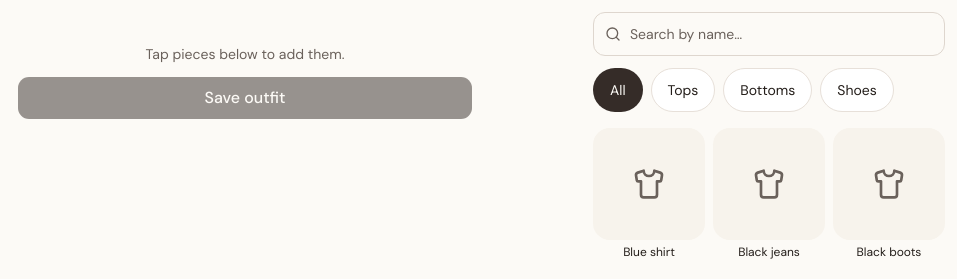
Scenario: arranges the chosen piece with buttons (OC-6)
Click the button "Blue shirt" at [649, 194], box 593,128 -> 705,260
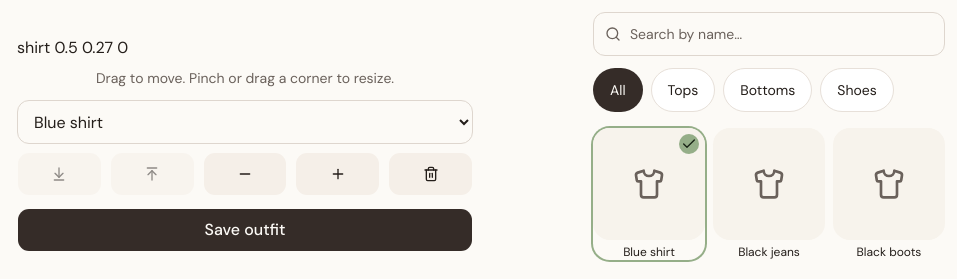
Click the button "Black jeans" at [769, 194], box 713,128 -> 825,260
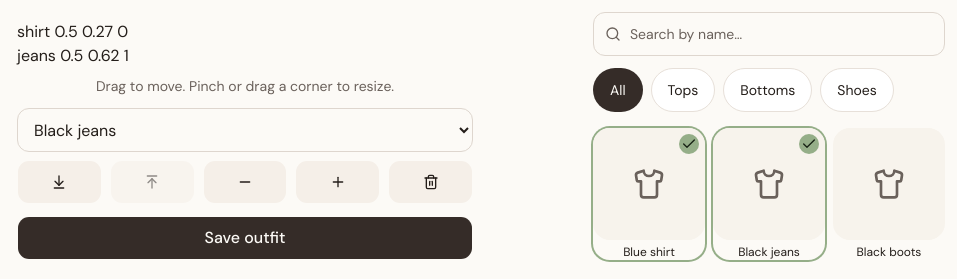
Expected: the button named "Bring forward" is disabled, 110,160 -> 195,204
Expected: the dropdown named "Piece to arrange" shows "Black jeans", 17,108 -> 473,152
Click the button named "Send backward" at [59, 182], box 17,160 -> 102,204
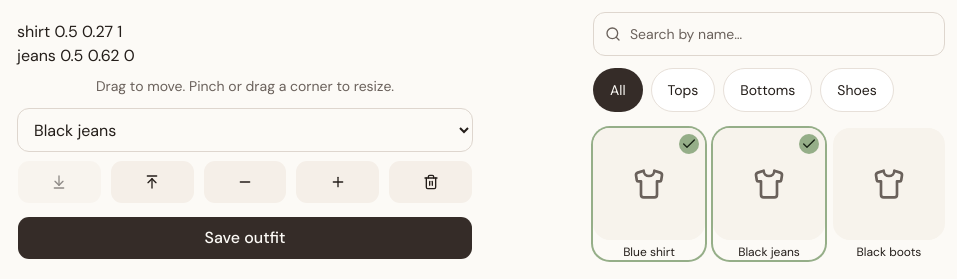
Select "Blue shirt" in the dropdown named "Piece to arrange" at [245, 130], box 17,108 -> 473,152
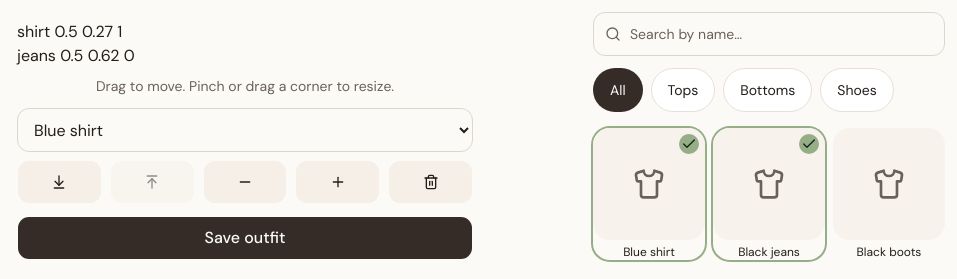
Click the button named "Remove from outfit" at [431, 182], box 388,160 -> 473,204
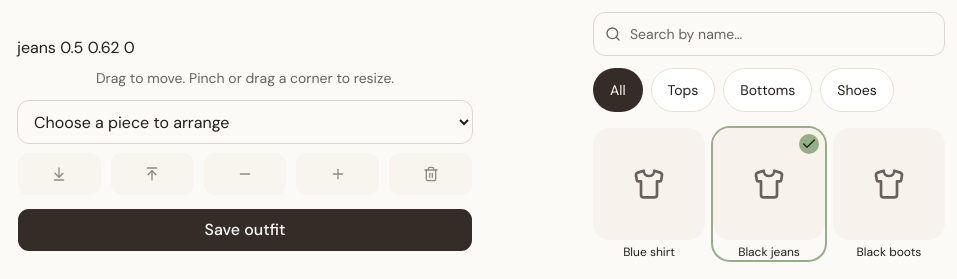
Expected: the button named "Bigger" is disabled, 295,152 -> 380,196
